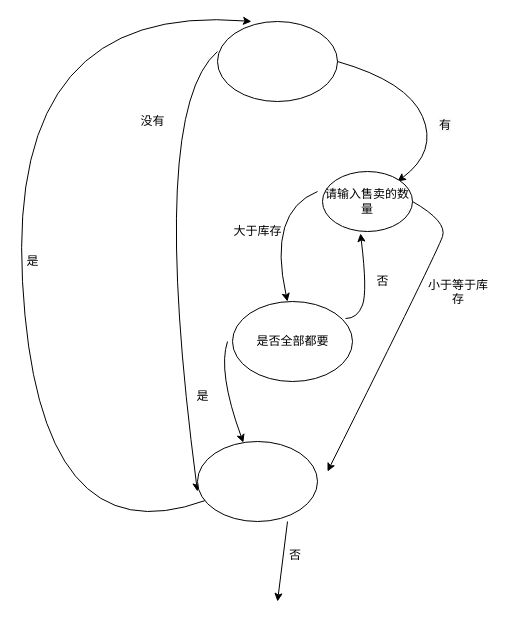
Image size: 509x628. Some labels were removed from this diagram. Each missing label, with the centre of its shape:
是否继续购买: point (257, 481)
输入要售卖的 商品的商品号: point (277, 61)
